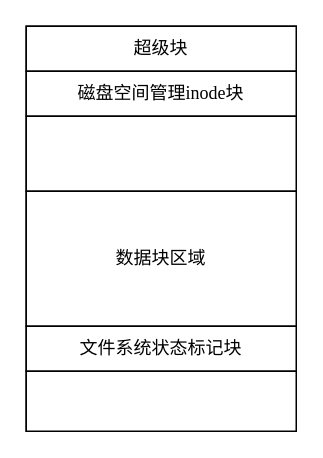
Image size: 323x458. Some labels were removed from this diagram. The shapes that lost their labels are listed below. From the top down, each one's centre as x and y in pixels, then its label:
(x=160, y=153): 空间管理 B+ 树块缓冲链表
(x=160, y=400): Log 块区域
